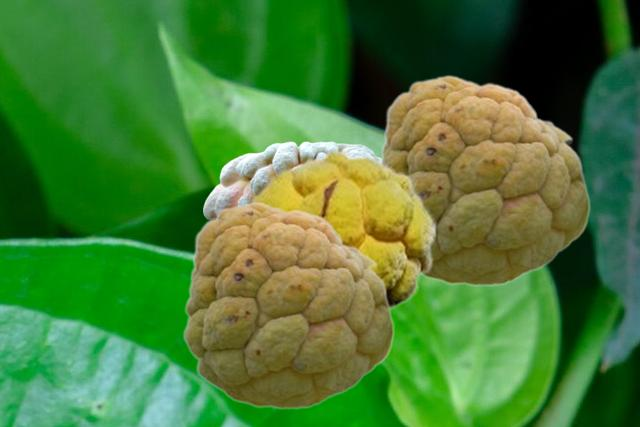atis: (378, 74, 589, 285), (182, 201, 393, 408), (248, 149, 436, 313), (203, 141, 379, 219)
